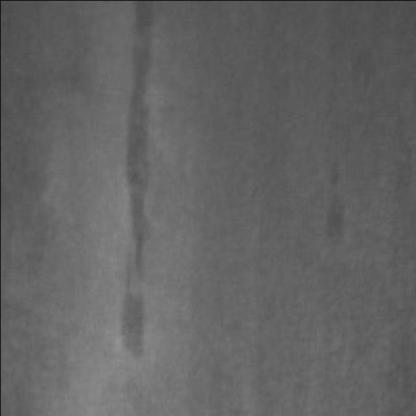inclusion: (114, 4, 171, 302), (112, 218, 160, 368), (316, 152, 360, 254)
